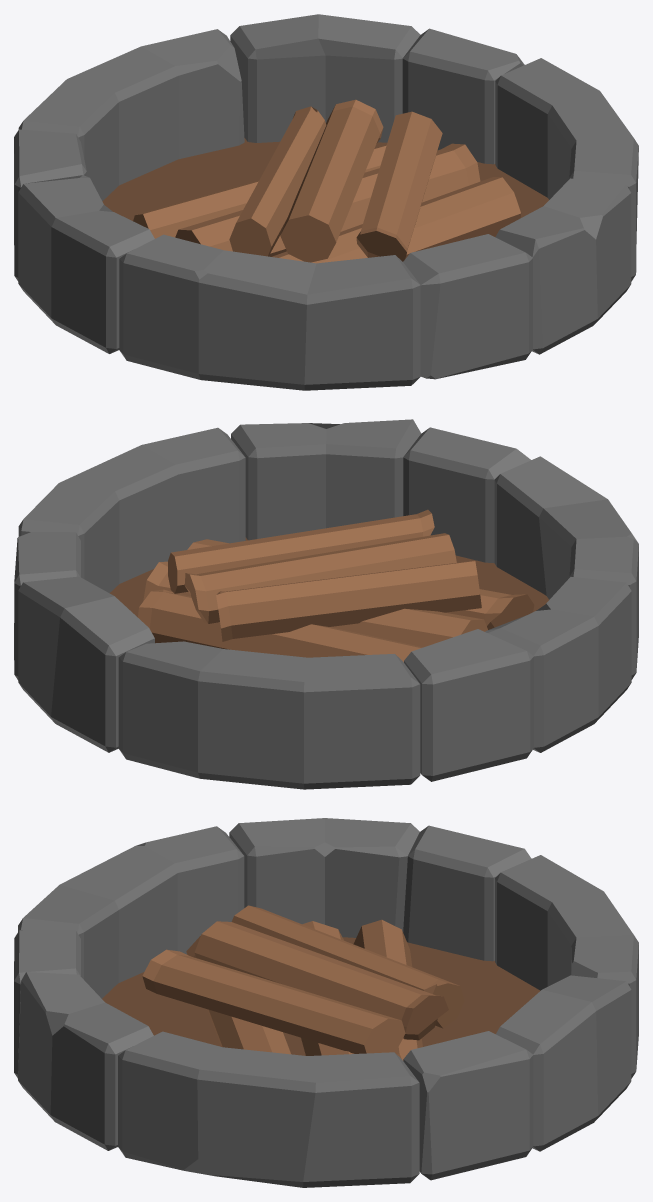
Rendered from campfire.fbx.
3 views of the same model, one above another, from view 1: azimuth 30°, elevation 25°; view 2: azimuth 150°, elevation 25°; view 3: azimuth 270°, elevation 25° (orthographic).
Parts seen in each view (by area): view 1: campfire; view 2: campfire; view 3: campfire.
Part boxes in pixels (box(x1,y1,x2,y2)): campfire: box(14, 14, 638, 390); campfire: box(14, 419, 638, 789); campfire: box(14, 818, 638, 1187).
Size of the model in its own units: 123 by 25.06 by 121.
